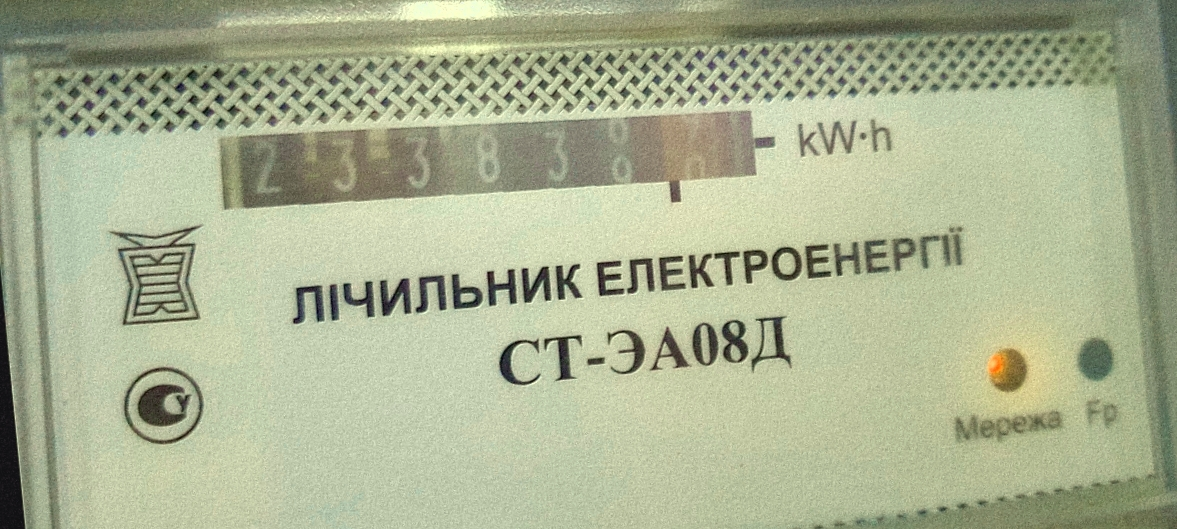0: (681, 151, 710, 187)
2: (245, 135, 289, 199)
3: (396, 128, 438, 195), (541, 124, 574, 184), (328, 134, 360, 195)
8: (469, 126, 507, 187), (605, 112, 634, 146)
9: (675, 107, 708, 148), (607, 151, 639, 189)
screen: (186, 62, 791, 274)
